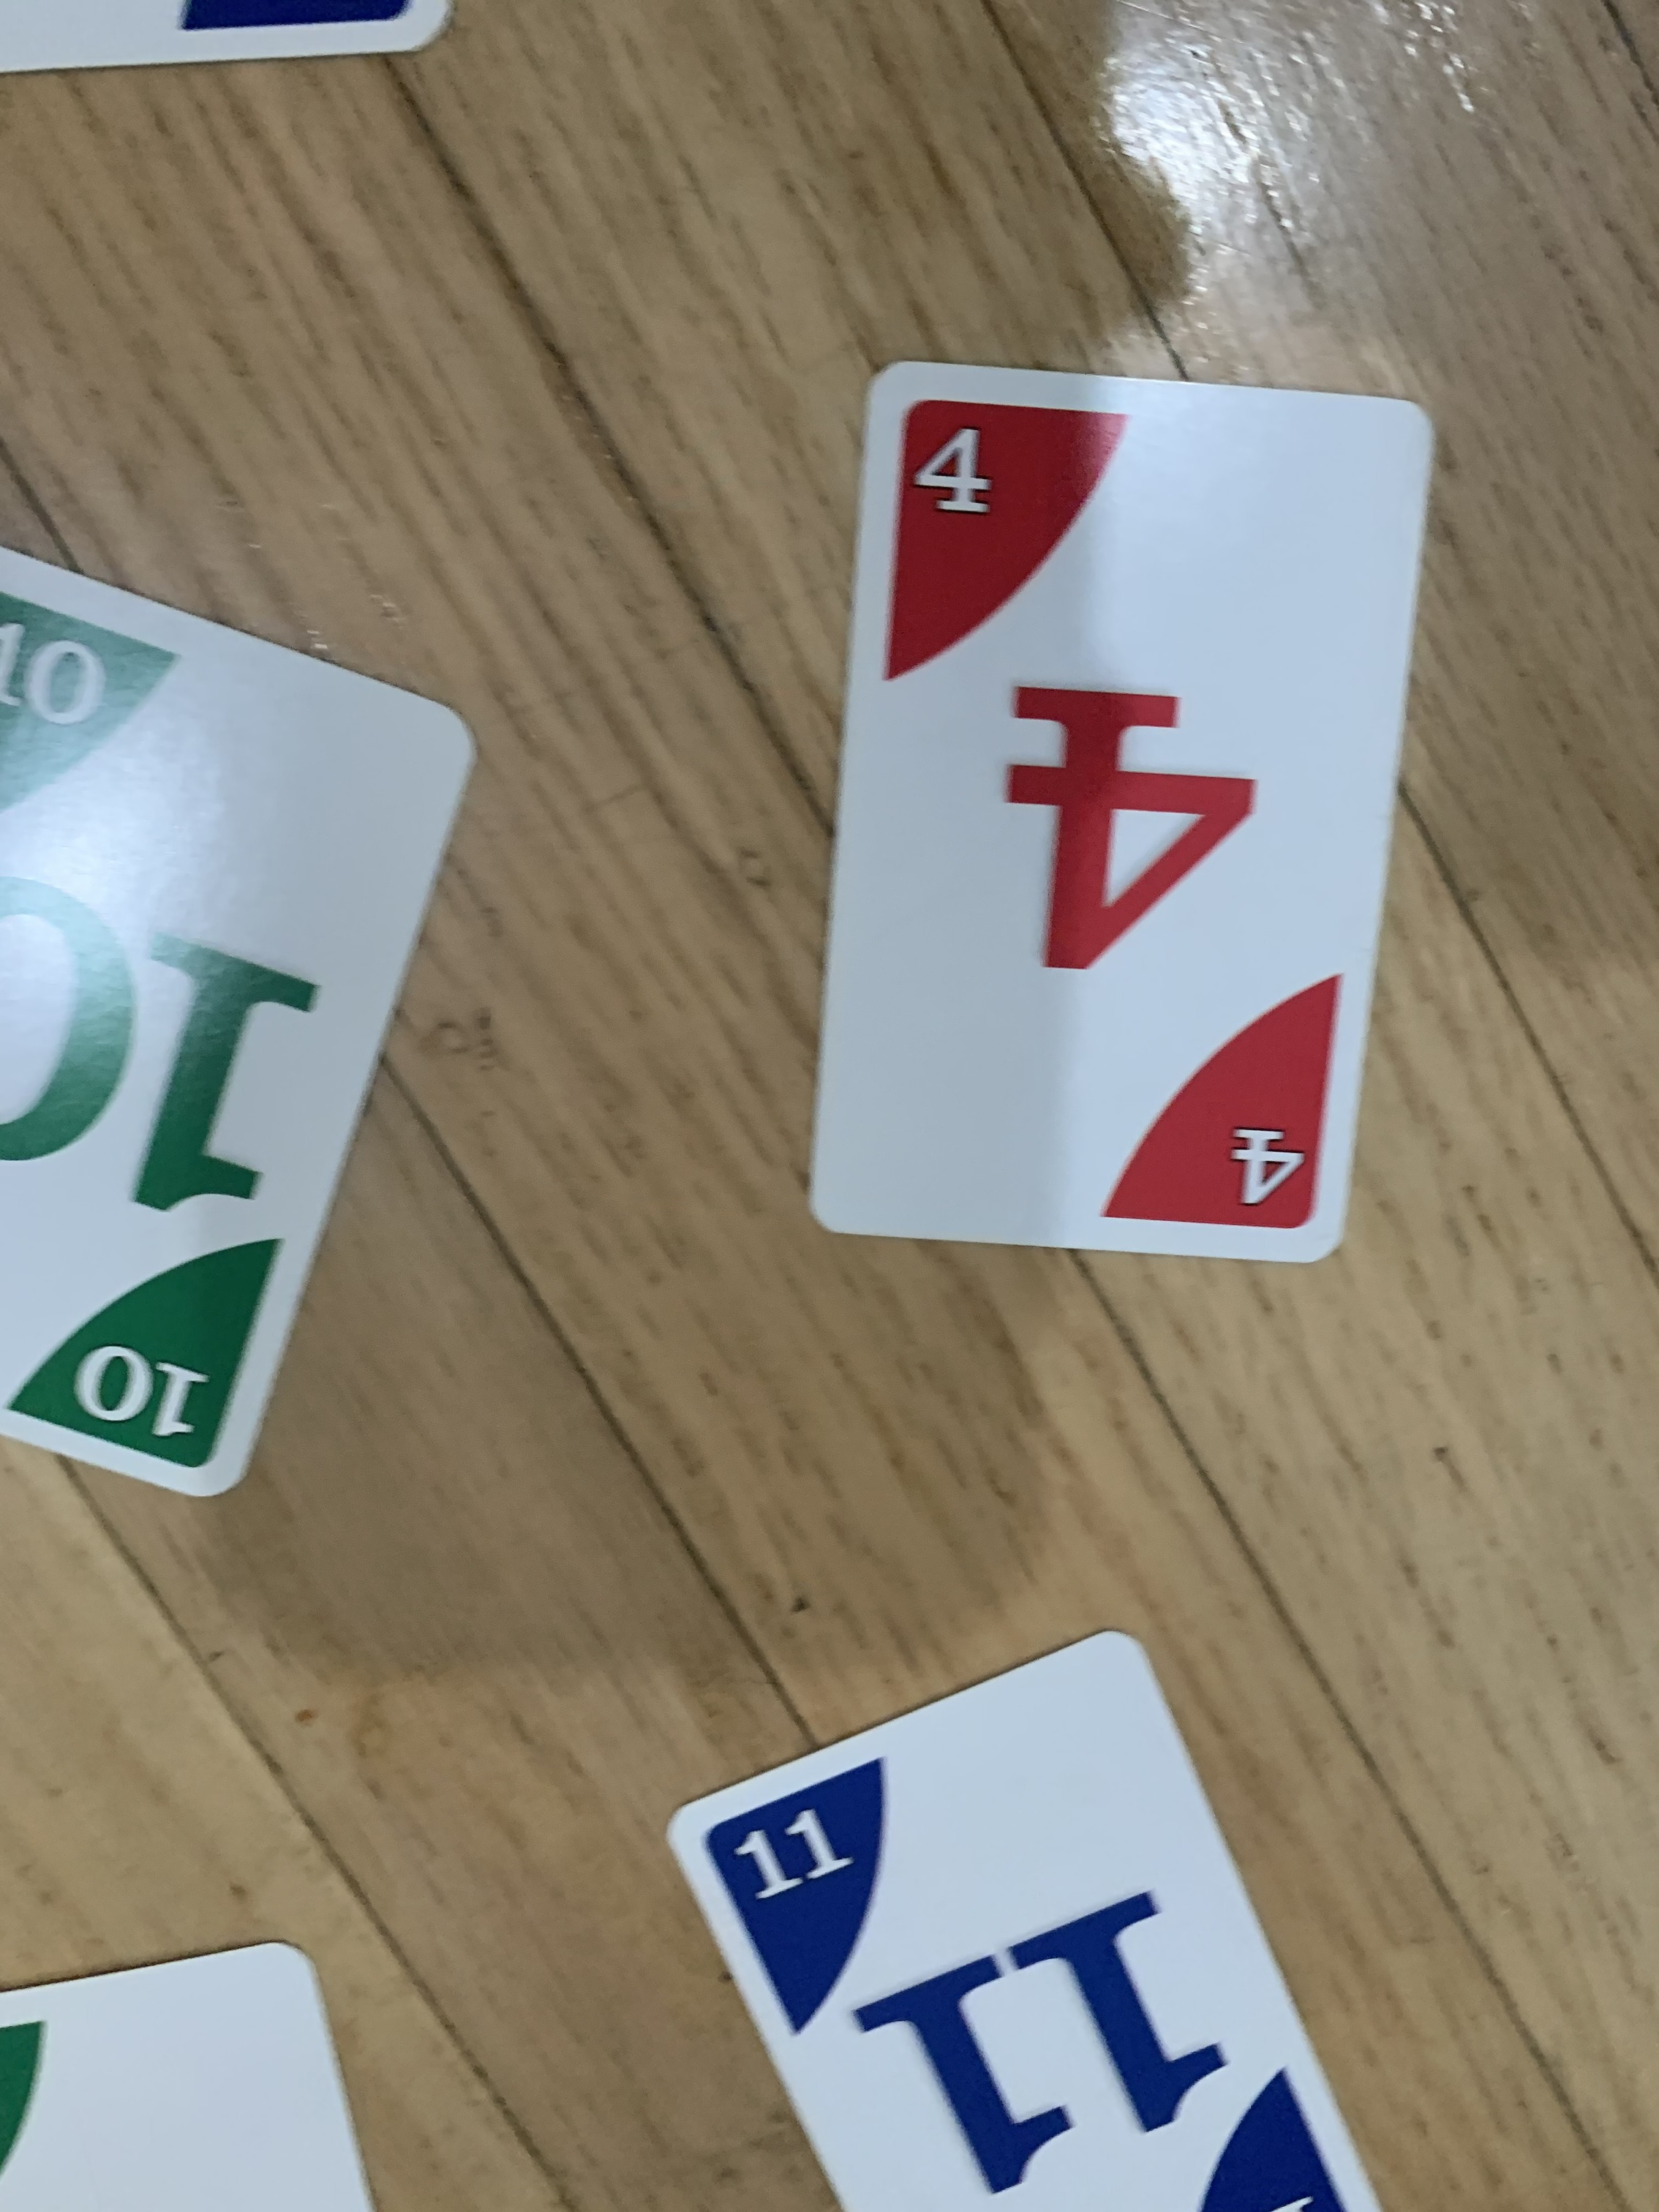four: (795, 347, 1438, 1280)
